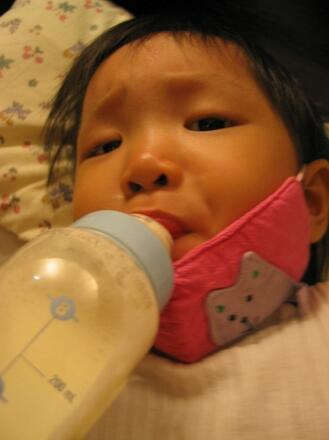WRONG: (59, 84, 302, 327)
